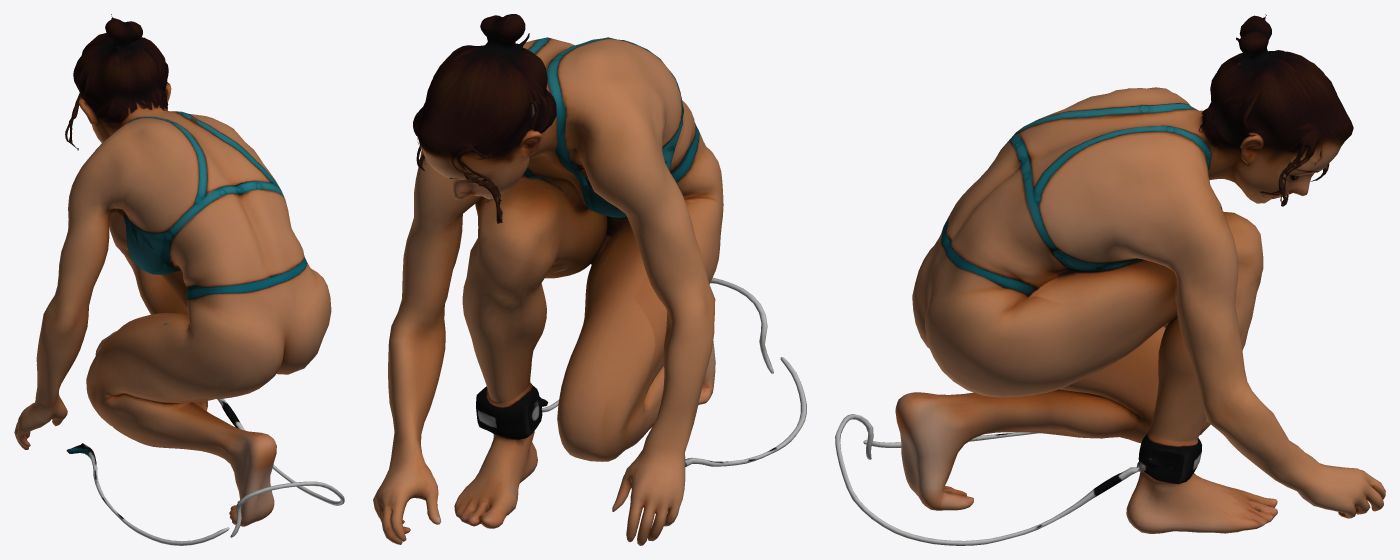
Rendered from female_kneel_bend.glb.
The picture shows the model from 3 angles, left to right: view 1: azimuth 30°, elevation 25°; view 2: azimuth 150°, elevation 25°; view 3: azimuth 270°, elevation 25°; orthographic projection. The views are drawn at different scales.
Visible parts, largest first — view 1: tripo_node_18c42e81-27bc-4e91-8802-ea1d032ef9de; view 2: tripo_node_18c42e81-27bc-4e91-8802-ea1d032ef9de; view 3: tripo_node_18c42e81-27bc-4e91-8802-ea1d032ef9de.
Part boxes in pixels (left/top/right/bottom): tripo_node_18c42e81-27bc-4e91-8802-ea1d032ef9de: left=14, top=14, right=344, bottom=545; tripo_node_18c42e81-27bc-4e91-8802-ea1d032ef9de: left=373, top=14, right=806, bottom=545; tripo_node_18c42e81-27bc-4e91-8802-ea1d032ef9de: left=835, top=14, right=1385, bottom=545.
Bounding box in the file's own units: 0.6979 × 1.26 × 1.28.
1 material, 1 textured.
